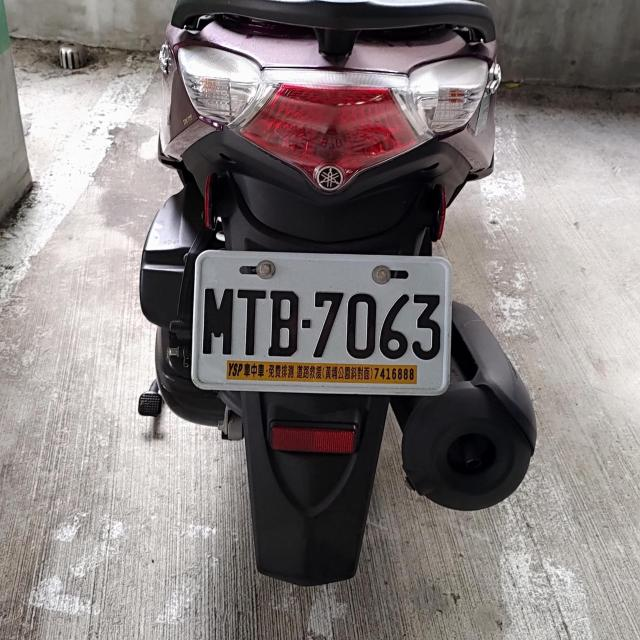W: (188, 248, 451, 393)
